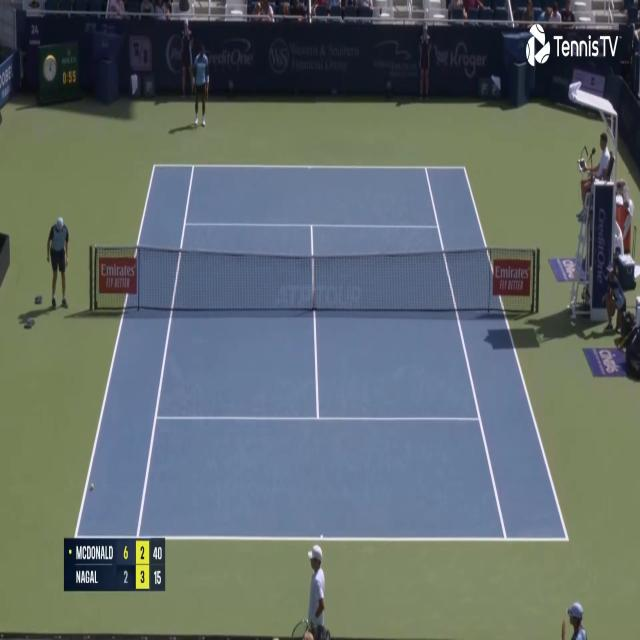tennis-player: (291, 540, 334, 639), (190, 41, 210, 128)
